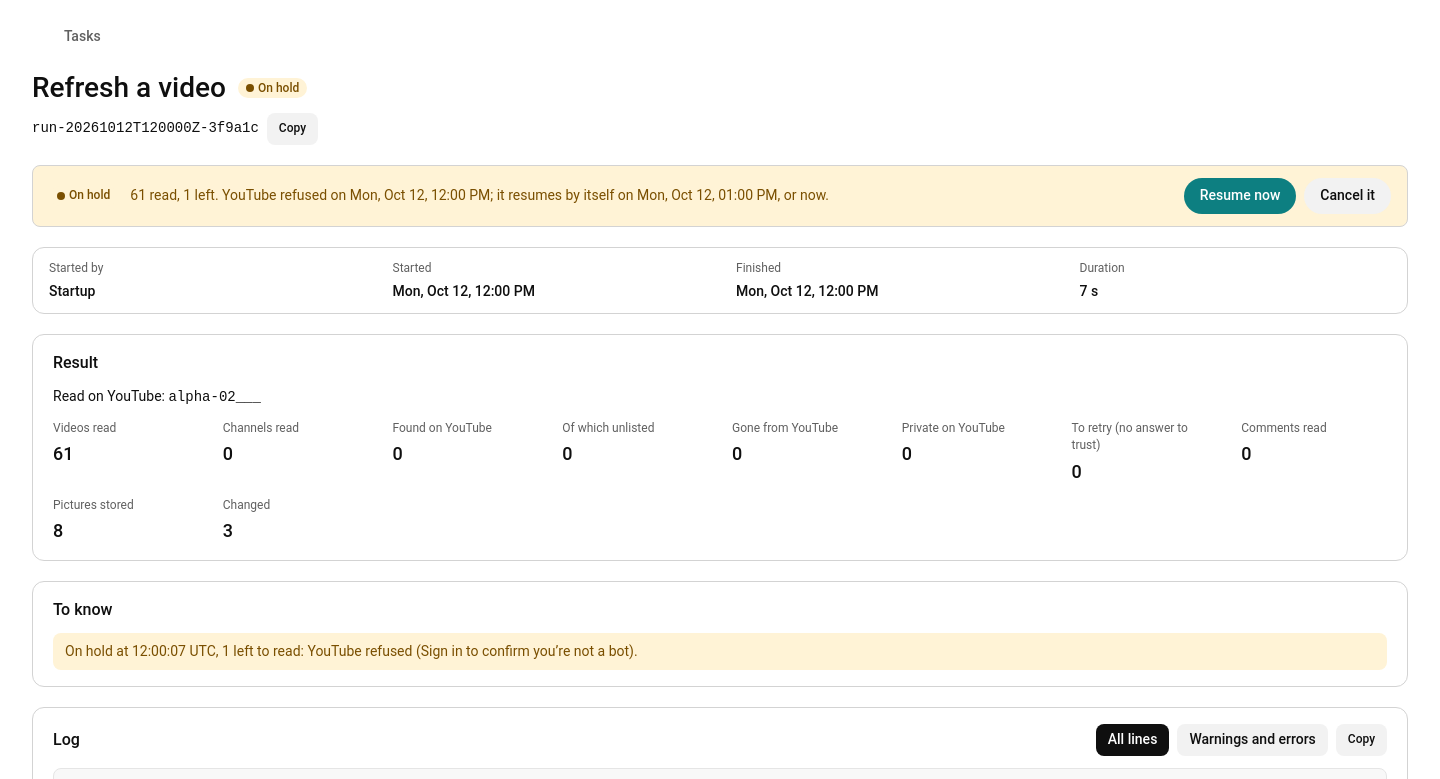
Test: RunPage › a refresh on hold: when it resumes by itself, Resume now, and why a resume was refused
Expected: the element "On hold" shows "61 read, 1 left.", 130,187 -> 829,203
Click the button "Resume now": (1240, 196) 1184,178 -> 1296,214
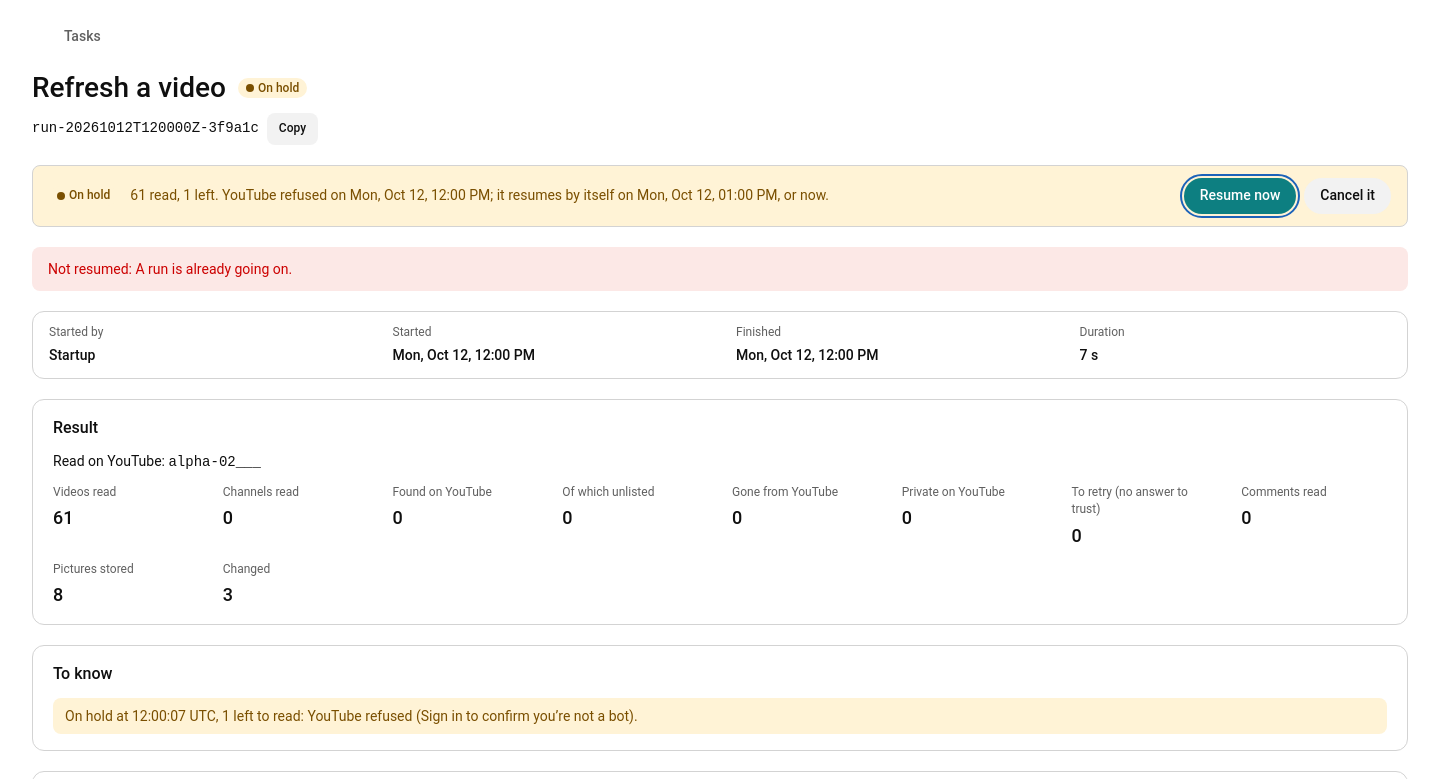
Expected: the message reads "Not resumed: A run is already going on.", 48,261 -> 292,277
